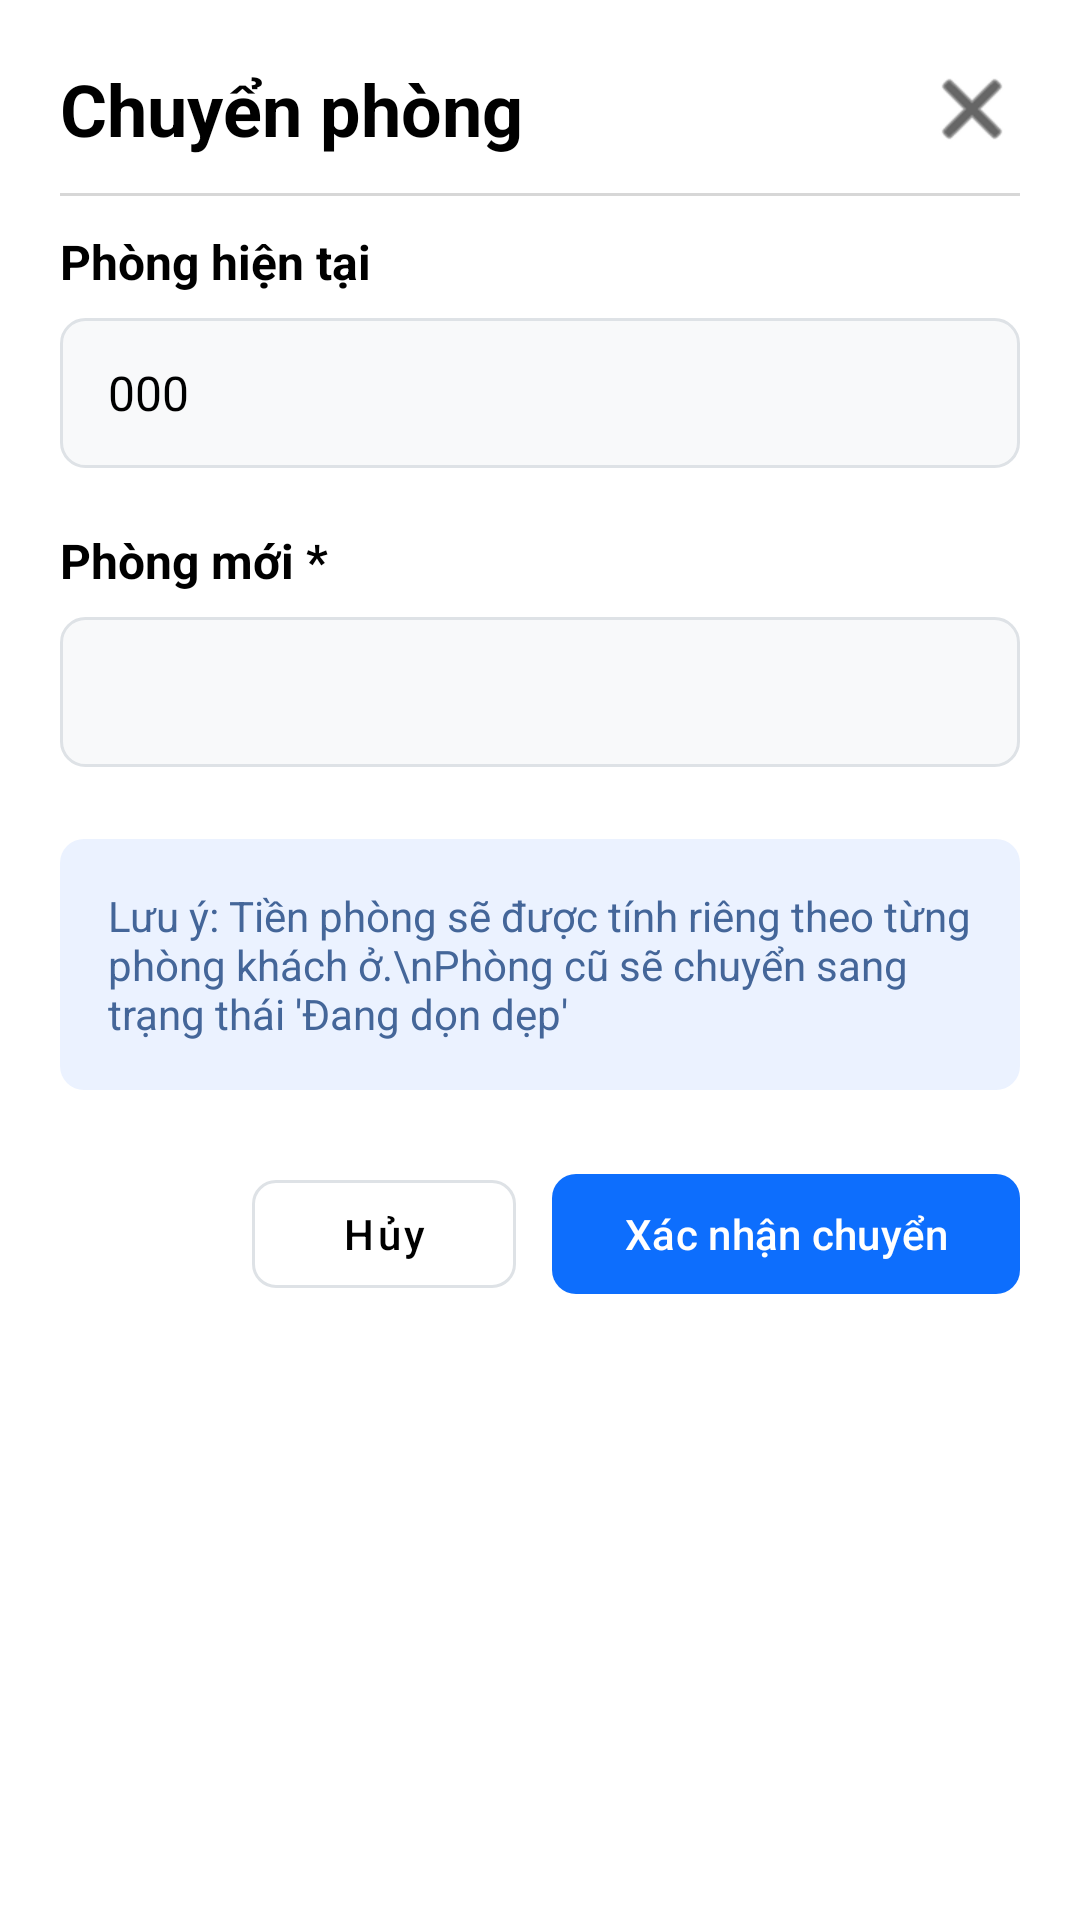

Locate icon controls on the screen. Image size 1080x1920, boxes as (x1, y1, x2, y2).
close clear cancel: (942, 79, 1002, 139)
